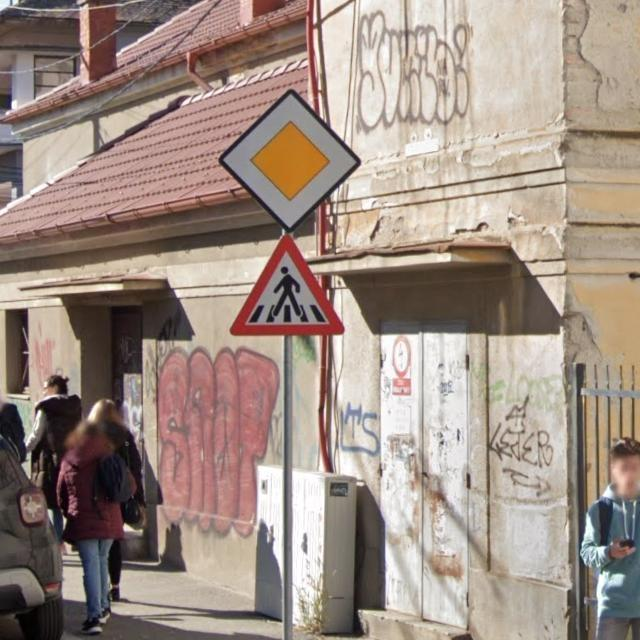warn_crosswalk: (228, 233, 347, 335)
